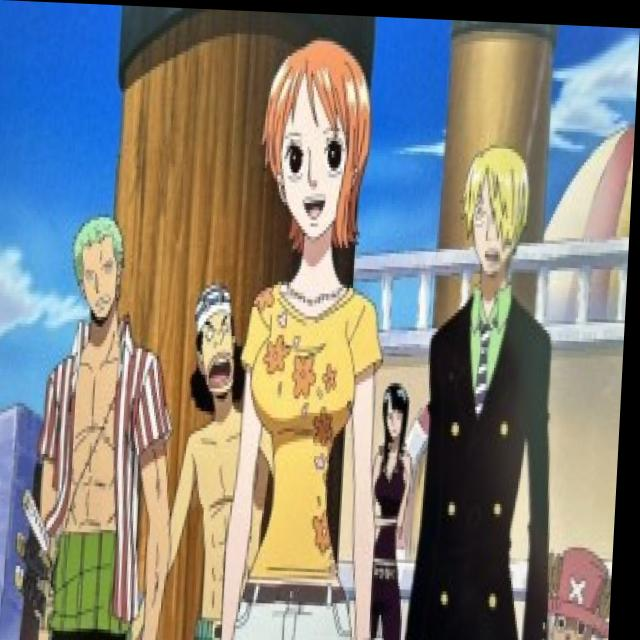Chyopa: (549, 528, 619, 640)
Nami: (258, 31, 387, 270)
NicoRobin: (378, 368, 421, 468)
Sangdi: (460, 131, 540, 280)
Usopp: (193, 273, 249, 410)
Zoro: (71, 204, 134, 330)
